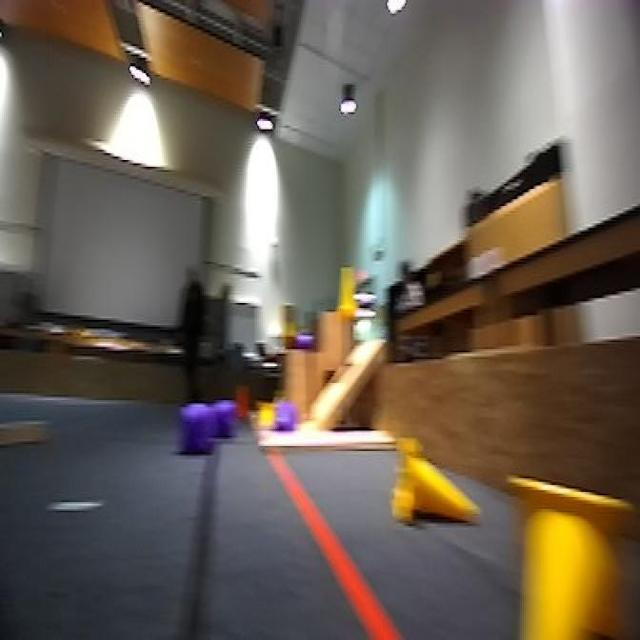frc_cone: (503, 466, 632, 640), (392, 436, 473, 538), (337, 264, 359, 316), (255, 403, 276, 428)
frc_cube: (177, 407, 212, 451), (212, 398, 237, 443), (274, 403, 294, 429), (292, 330, 316, 351)
